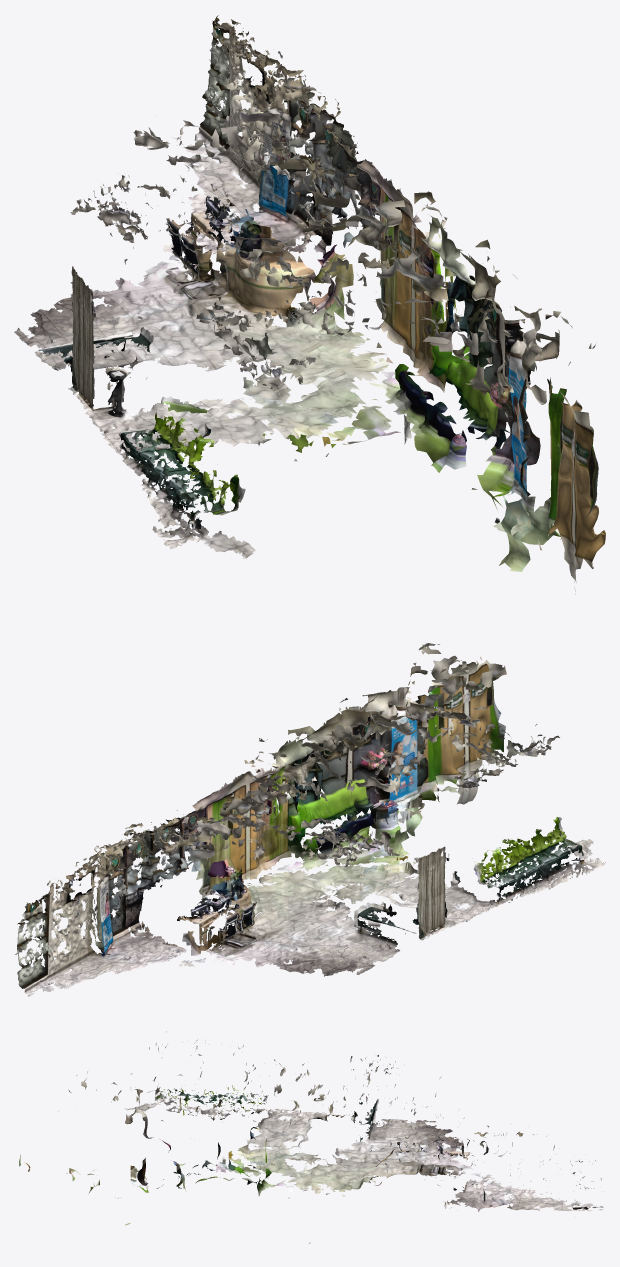
The model's file is 147317-tower6f-tex.glb.
The picture shows the model from 3 angles, top to bottom: view 1: azimuth 30°, elevation 25°; view 2: azimuth 150°, elevation 25°; view 3: azimuth 270°, elevation 25°; orthographic projection. The views are drawn at different scales.
Parts seen in each view (by area): view 1: Node; view 2: Node; view 3: Node.
Boxes of the visible parts, x1=… form: Node: x1=14, y1=15, x2=605, y2=594; Node: x1=15, y1=643, x2=605, y2=996; Node: x1=19, y1=1031, x2=603, y2=1243.
Bounding box in the file's own units: 8.13 × 5.02 × 16.61.
34 materials, 34 textured.
